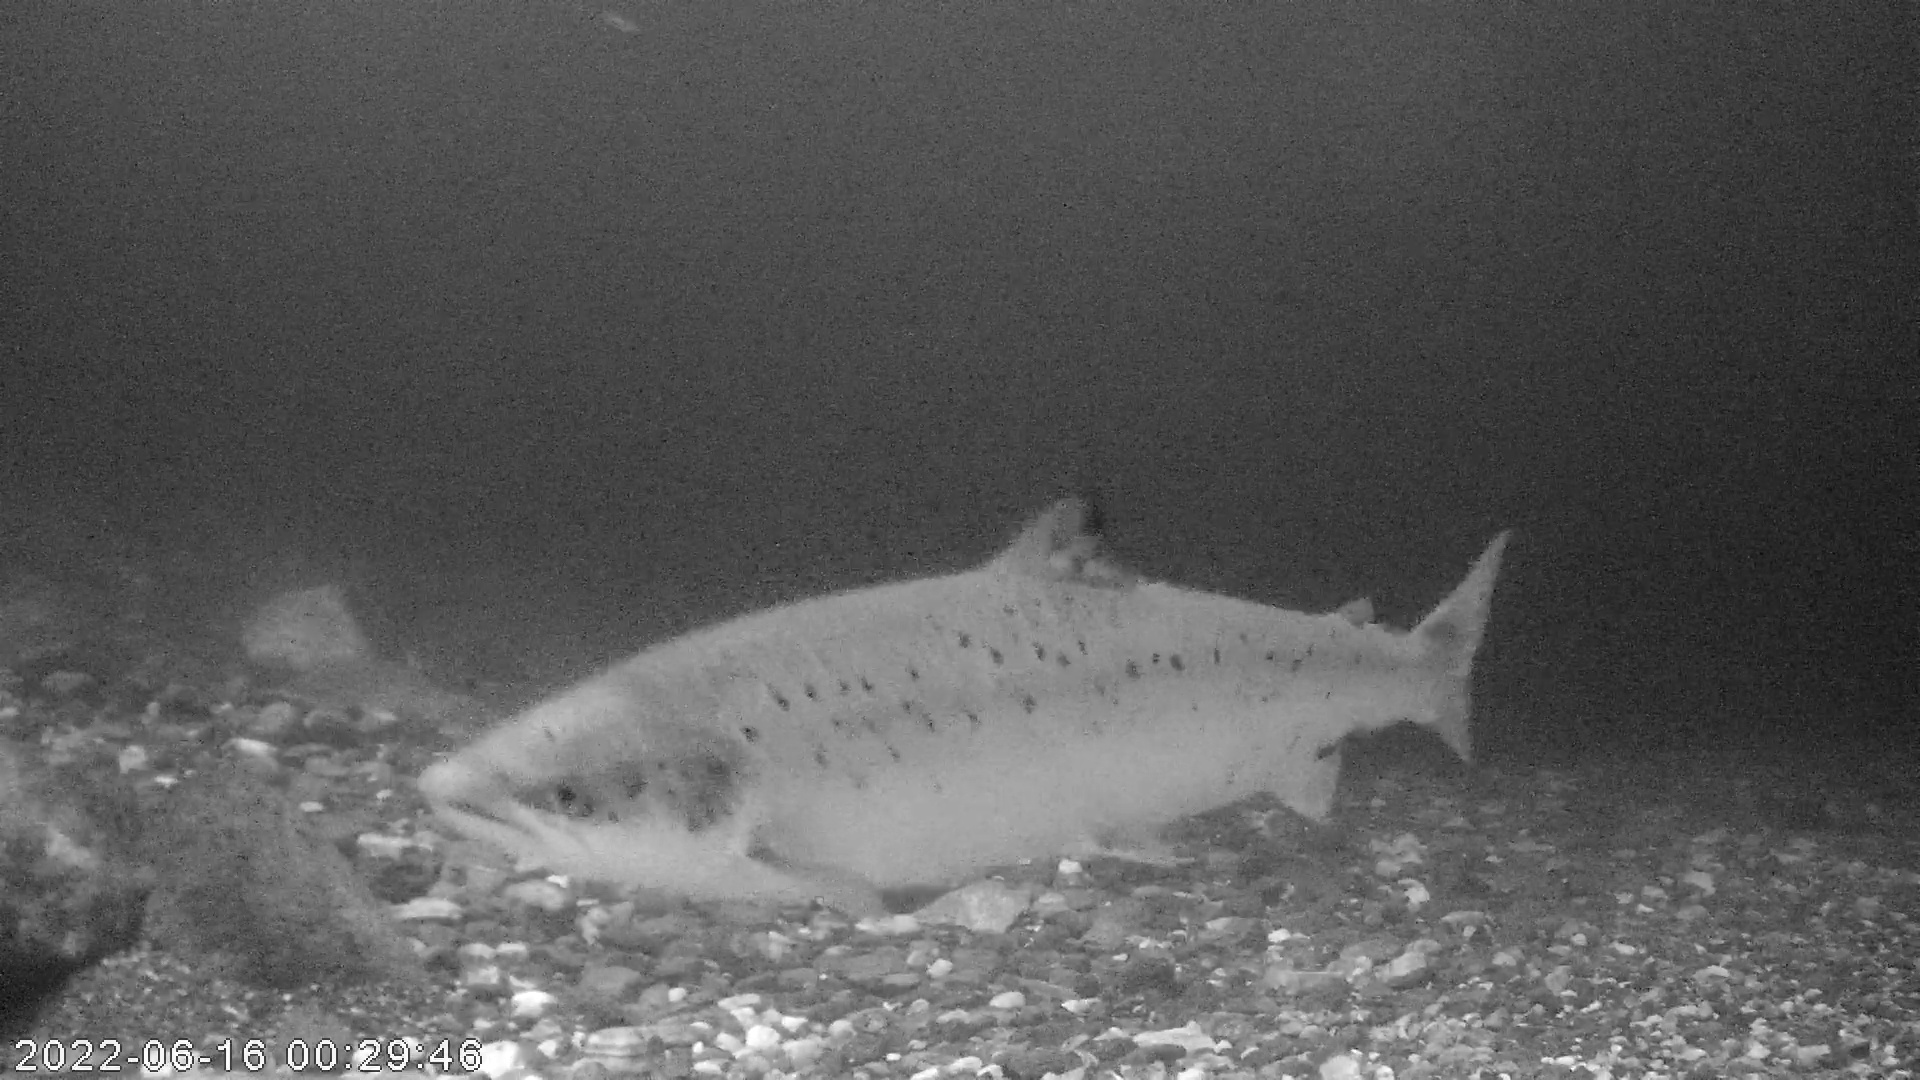salmon: (419, 484, 1514, 938)
